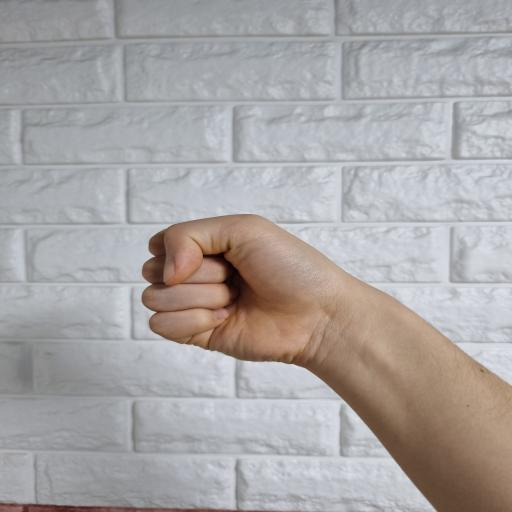Rock: (141, 214, 348, 364)
